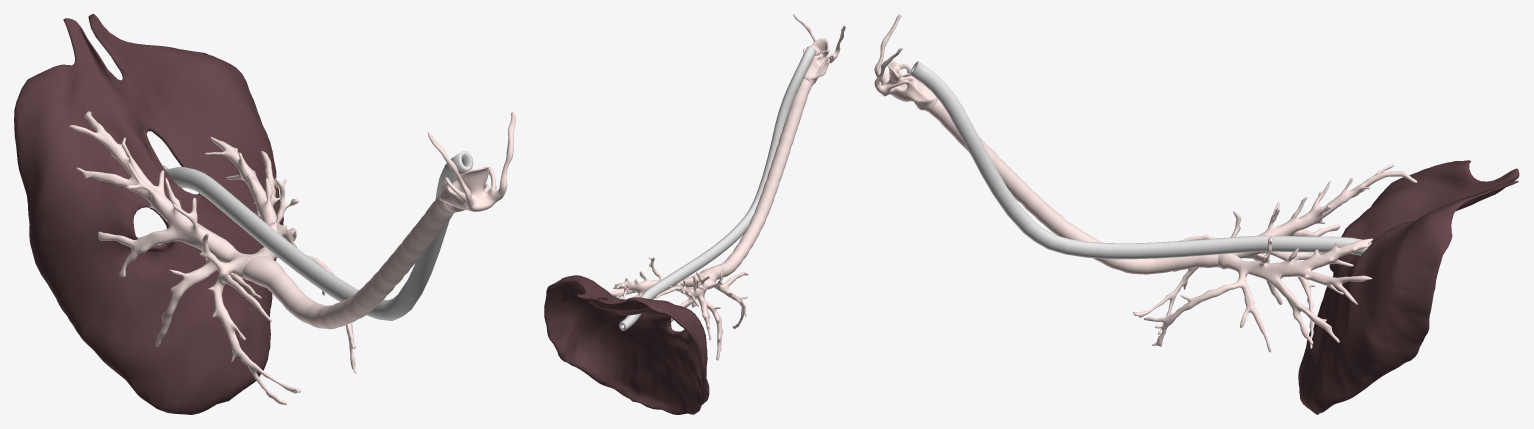
Rendered from k9_int_organs_airways_trach_laryn_diaph.fbx.
3 views of the same model, side by side, from view 1: azimuth 30°, elevation 25°; view 2: azimuth 150°, elevation 25°; view 3: azimuth 270°, elevation 25° (orthographic). The views are drawn at different scales.
Parts seen in each view (by area): view 1: diaphragm_LO, bronchial_tree_filled_LOW, oesophagus_LO, trachea_LOW, larynx_LOW; view 2: diaphragm_LO, oesophagus_LO, trachea_LOW, bronchial_tree_filled_LOW, larynx_LOW; view 3: diaphragm_LO, bronchial_tree_filled_LOW, oesophagus_LO, trachea_LOW, larynx_LOW.
Part boxes in pixels (x1,y1,x2,y2): diaphragm_LO: (14,14,283,414); bronchial_tree_filled_LOW: (69,111,355,404); oesophagus_LO: (163,150,473,320); trachea_LOW: (242,195,454,329); larynx_LOW: (427,112,515,212); diaphragm_LO: (544,275,709,414); oesophagus_LO: (619,46,816,330); trachea_LOW: (700,78,812,282); bronchial_tree_filled_LOW: (608,257,748,360); larynx_LOW: (793,14,845,85); diaphragm_LO: (1298,160,1519,414); bronchial_tree_filled_LOW: (1133,164,1417,352); oesophagus_LO: (910,61,1371,259); trachea_LOW: (928,99,1218,274); larynx_LOW: (874,14,937,111).
Bounding box in the file's own units: 136 × 249 × 388.
